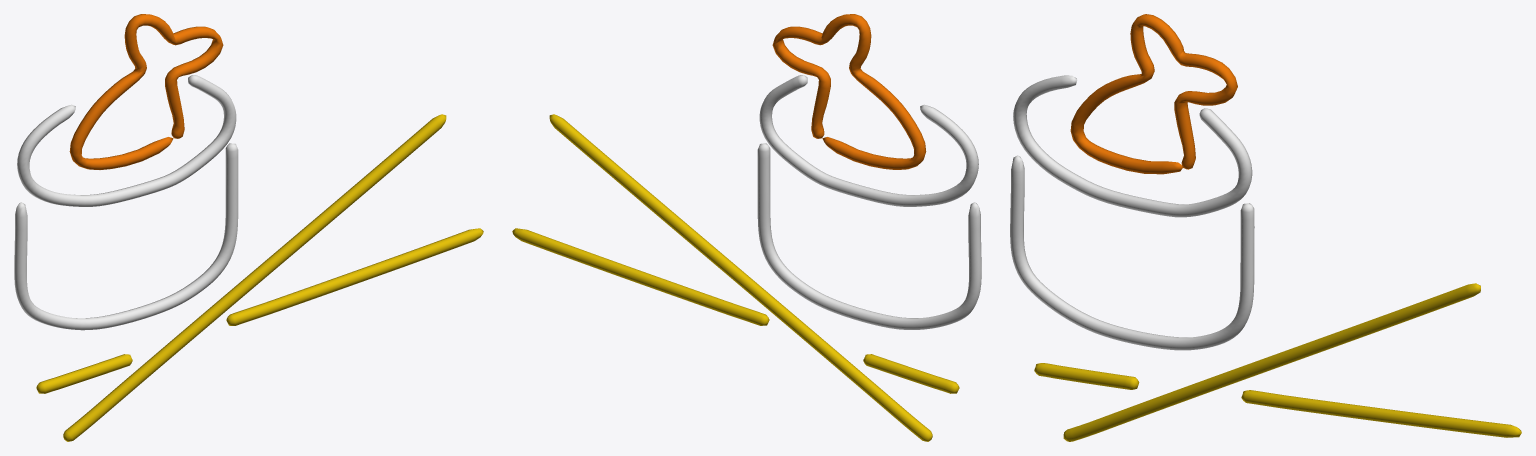
Rendered from Sushi Sign.fbx.
3 views of the same model, side by side, from view 1: azimuth 30°, elevation 25°; view 2: azimuth 150°, elevation 25°; view 3: azimuth 330°, elevation 25° (orthographic). The views are drawn at different scales.
Parts seen in each view (by area): view 1: pCube4, pCube1, pCube3, pCube2, pCube6, pCube5; view 2: pCube4, pCube1, pCube3, pCube2, pCube6, pCube5; view 3: pCube1, pCube3, pCube2, pCube4, pCube6, pCube5.
Part boxes in pixels (bbox=[...]): pCube4: bbox=[63, 114, 446, 441]; pCube1: bbox=[69, 14, 223, 169]; pCube3: bbox=[14, 143, 238, 330]; pCube2: bbox=[17, 75, 236, 206]; pCube6: bbox=[226, 228, 483, 325]; pCube5: bbox=[36, 354, 132, 393]; pCube4: bbox=[549, 114, 932, 441]; pCube1: bbox=[772, 14, 926, 169]; pCube3: bbox=[757, 143, 981, 329]; pCube2: bbox=[759, 75, 978, 206]; pCube6: bbox=[512, 228, 769, 325]; pCube5: bbox=[863, 354, 959, 393]; pCube1: bbox=[1070, 14, 1237, 174]; pCube3: bbox=[1010, 155, 1254, 350]; pCube2: bbox=[1013, 75, 1252, 217]; pCube4: bbox=[1063, 283, 1480, 441]; pCube6: bbox=[1241, 390, 1521, 437]; pCube5: bbox=[1034, 363, 1139, 389].
Bounding box in the file's own units: 8.77 × 7.31 × 0.2015.
